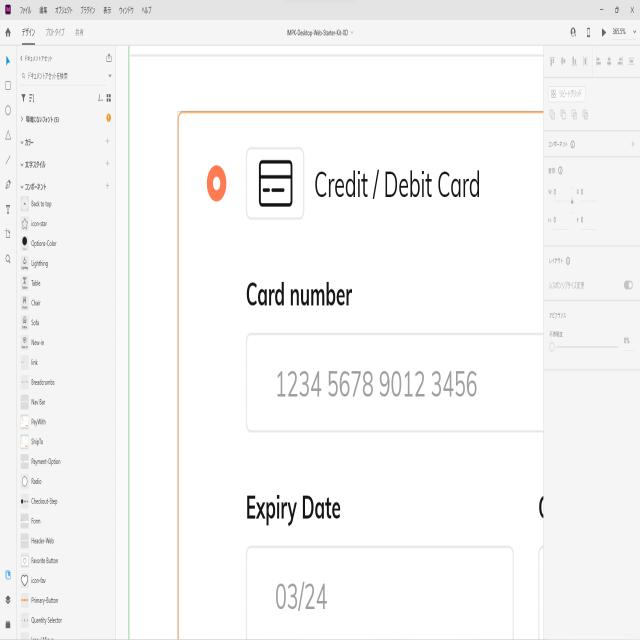radio: (205, 163, 228, 201)
